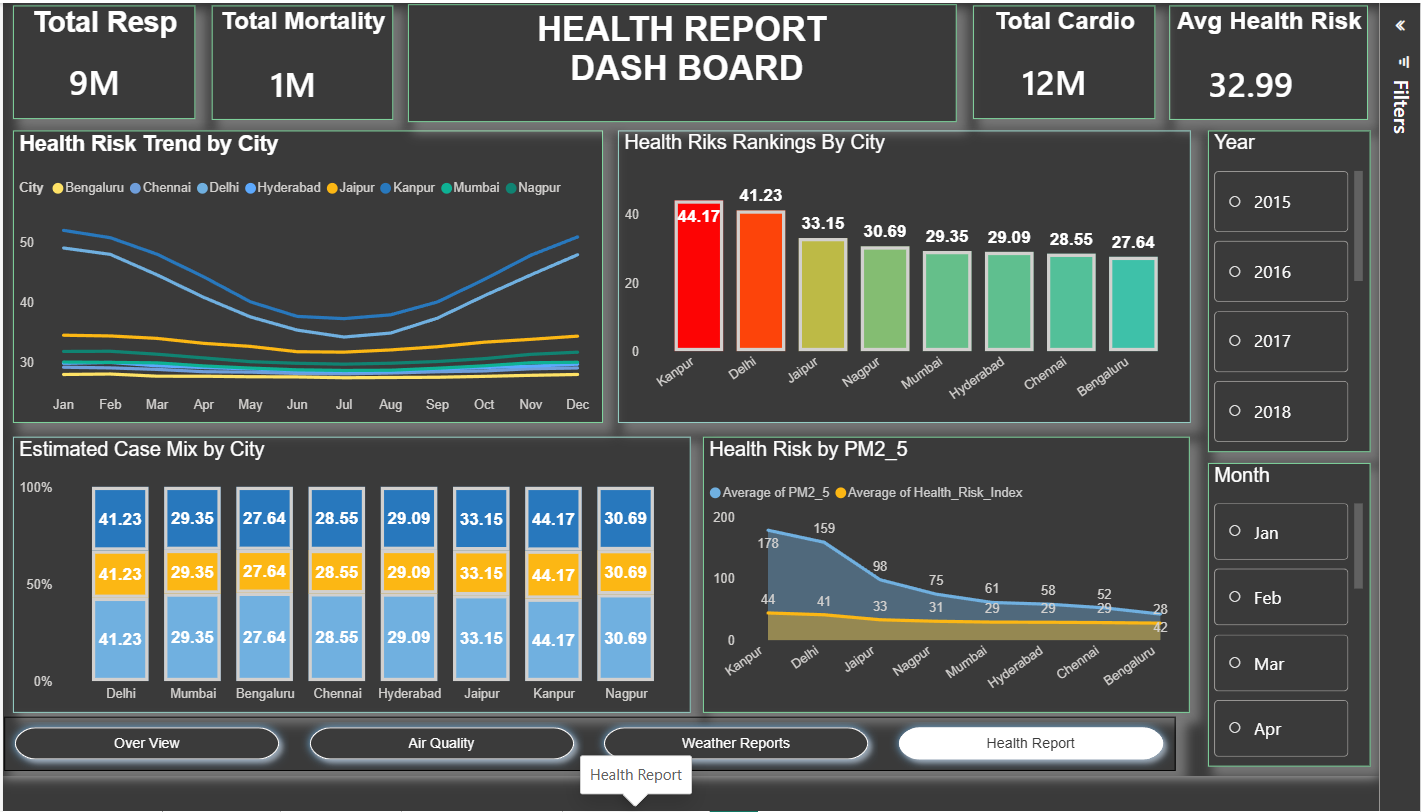

The dashboard page shown, as its layout file describes it:
{"tool":"powerbi","page":{"name":"Health Report","canvas":[1280,720],"ordinal":3},"visuals":[{"type":"cardVisual","title":"Total Resp","fields":{"Data":["Sum(Health_Report.Respiratory_Admissions_EstCases)"]},"box":[9.8,2.5,169.3,105.5],"z":0},{"type":"cardVisual","title":"Total Mortality","fields":{"Data":["Sum(Health_Report.Mortality_EstCases)"]},"box":[193.9,2.5,169,106],"z":1000},{"type":"cardVisual","title":"Avg Health Risk","fields":{"Data":["Avg(Health_Report.Health_Risk_Index)"]},"box":[1084.7,2.5,185,106],"z":2000},{"type":"cardVisual","title":"Total Cardio","fields":{"Data":["Sum(Health_Report.Cardiovascular_Admissions_EstCases)"]},"box":[901.8,2.5,169.3,105.5],"z":3000},{"type":"lineChart","title":"Health Risk Trend by City","fields":{"Y":["Avg(Health_Report.Health_Risk_Index)"],"Category":["Date Table.Month"],"Series":["City Table.City"]},"box":[9.8,119,549,272.4],"z":4000},{"type":"columnChart","title":"Health Riks Rankings By City","fields":{"Y":["Avg(Health_Report.Health_Risk_Index)"],"Category":["City Table.City"]},"box":[571.8,119,532.5,272.4],"z":5000},{"type":"hundredPercentStackedColumnChart","title":"Estimated Case Mix by City","fields":{"Y":["Health_Report.Total Cardio Case","Health_Report.Total Asthma ER","Health_Report.Total Resp Case"],"Category":["City Table.City"]},"box":[9.8,403.7,630.7,256.4],"z":6000},{"type":"areaChart","title":"Health Risk by PM2_5","fields":{"Y":["Avg(Health_Report.PM2_5)","Avg(Health_Report.Health_Risk_Index)"],"Category":["City Table.City"]},"box":[651.5,403.7,452.8,256.4],"z":7000},{"type":"advancedSlicerVisual","fields":{"Values":["Date Table.Year"]},"box":[1121.5,119,150.9,299.4],"z":8000},{"type":"advancedSlicerVisual","fields":{"Values":["Date Table.Month"]},"box":[1121.5,428.2,150.9,282.2],"z":9000},{"type":"pageNavigator","box":[1.2,663.8,1089.6,50.3],"z":10000},{"type":"textbox","box":[376.7,1.2,510.4,109.2],"z":11000}]}

Visuals, with their boxes in screenshot pixels (x1, y1, x2, y2), scaled from the page's 1280x720 canvas onto the 1421x812 screenshot:
"Total Resp" cardVisual: <box>11,3,199,122</box>
"Total Mortality" cardVisual: <box>215,3,403,122</box>
"Avg Health Risk" cardVisual: <box>1204,3,1410,122</box>
"Total Cardio" cardVisual: <box>1001,3,1189,122</box>
"Health Risk Trend by City" lineChart: <box>11,134,620,441</box>
"Health Riks Rankings By City" columnChart: <box>635,134,1226,441</box>
"Estimated Case Mix by City" hundredPercentStackedColumnChart: <box>11,455,711,744</box>
"Health Risk by PM2_5" areaChart: <box>723,455,1226,744</box>
advancedSlicerVisual - Date Table.Year: <box>1245,134,1413,472</box>
advancedSlicerVisual - Date Table.Month: <box>1245,483,1413,801</box>
pageNavigator: <box>1,749,1211,805</box>
textbox: <box>418,1,985,125</box>
